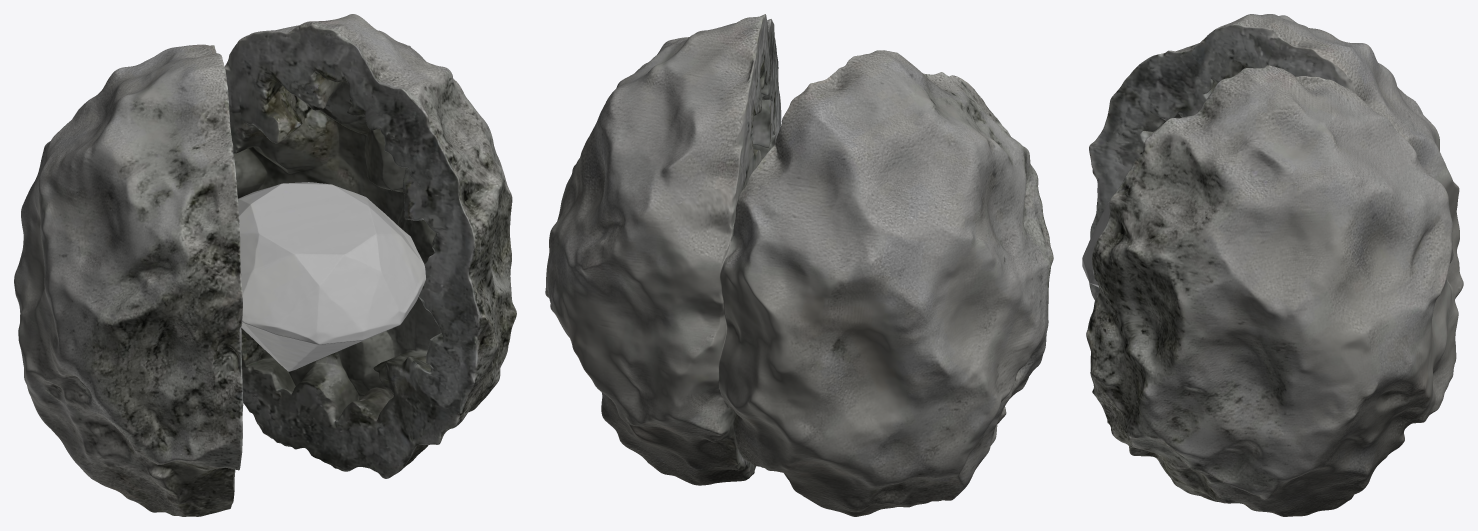
The model's file is 10-el-diamante-de-la-iglesia-optimized.glb.
3 views of the same model, side by side, from view 1: azimuth 30°, elevation 25°; view 2: azimuth 150°, elevation 25°; view 3: azimuth 270°, elevation 25° (orthographic). The views are drawn at different scales.
Visible parts, largest first — view 1: tripo_node_8c8a2fe7-e986-4c28-85e9-a3c4e3395cfc; view 2: tripo_node_8c8a2fe7-e986-4c28-85e9-a3c4e3395cfc; view 3: tripo_node_8c8a2fe7-e986-4c28-85e9-a3c4e3395cfc.
Boxes of the visible parts, x1,y1,x2,y2 form: tripo_node_8c8a2fe7-e986-4c28-85e9-a3c4e3395cfc: (14,14,516,516); tripo_node_8c8a2fe7-e986-4c28-85e9-a3c4e3395cfc: (545,14,1053,516); tripo_node_8c8a2fe7-e986-4c28-85e9-a3c4e3395cfc: (1082,14,1463,516).
Size of the model in its own units: 1 by 0.9487 by 0.7808.
1 material, 1 textured.
